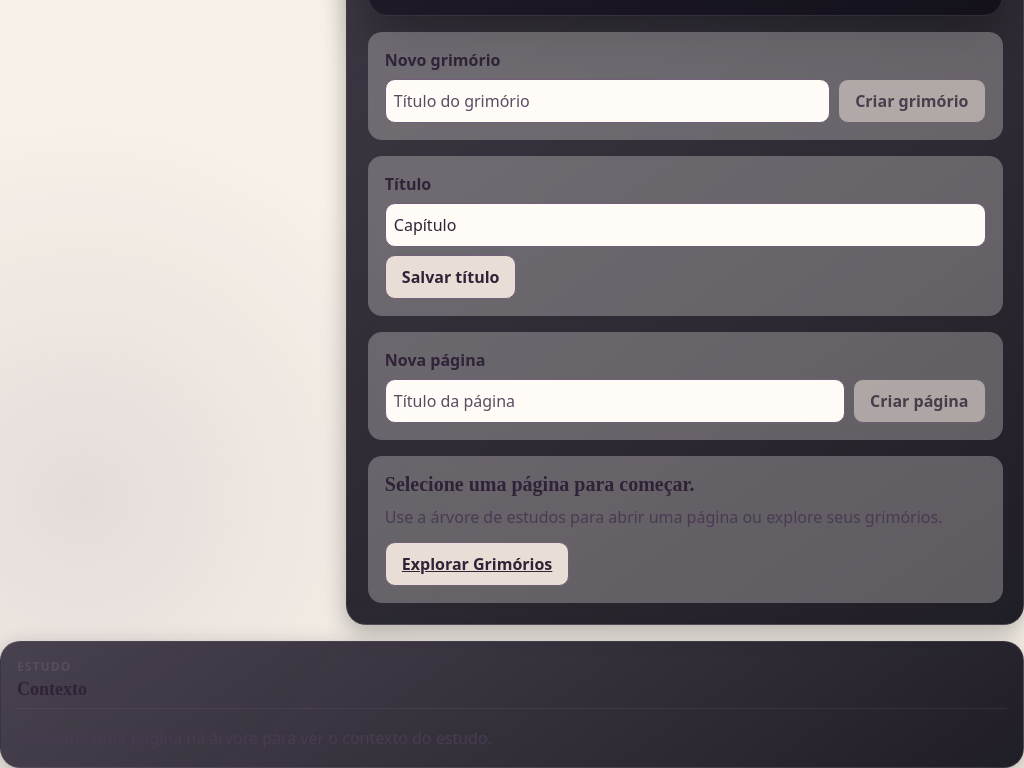
Test: WorkspaceShell › creates a page and opens it in the editor
The width and height of the screenshot is (1024, 768).
(page scrolled)
Type "Nova página" into the field labelled "Nova página" at (615, 401), box [385,379,845,423]
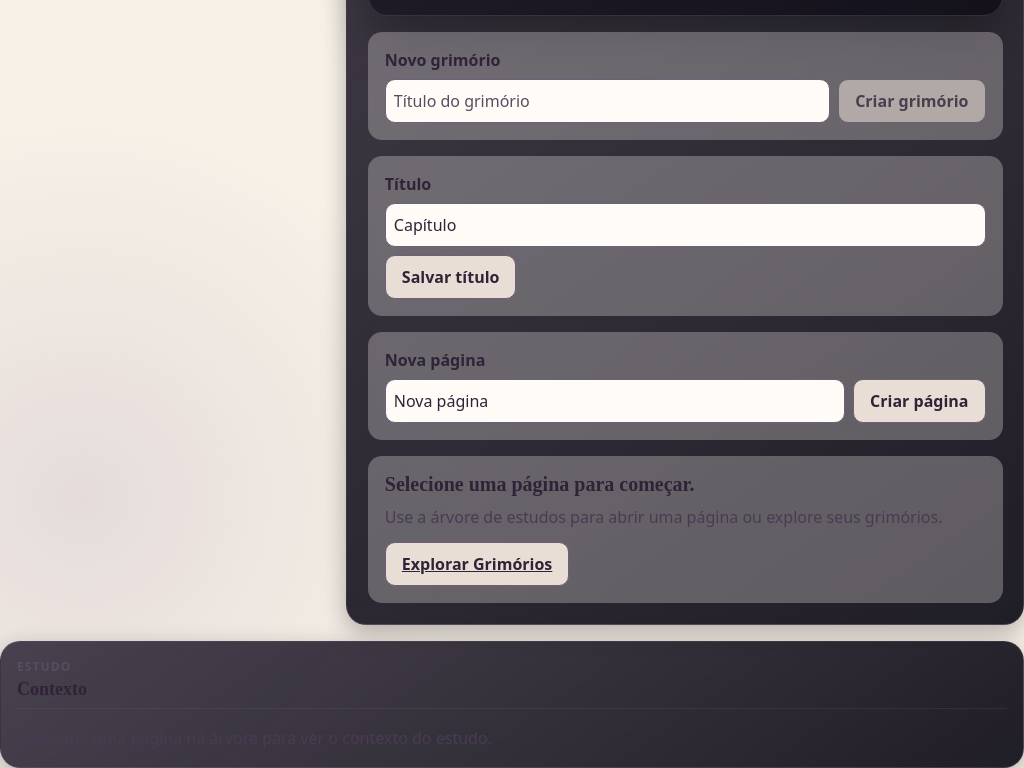
Click the button "Criar página" at (919, 401), box [853,379,986,423]
(page scrolled)
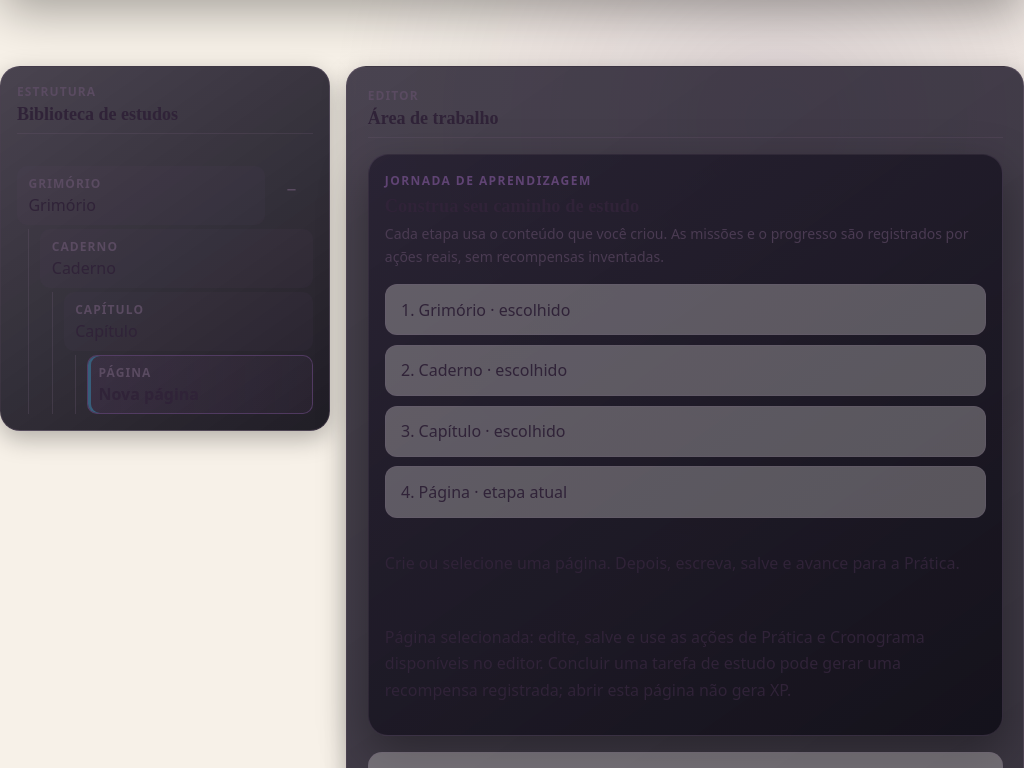
Check: the button "Página Nova página" is shown, box [87,355,313,414]
